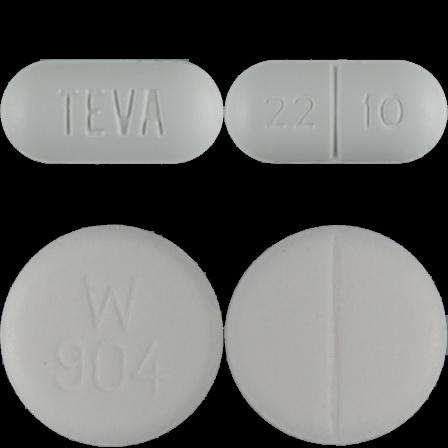0615-4517: (0, 0, 224, 224)
